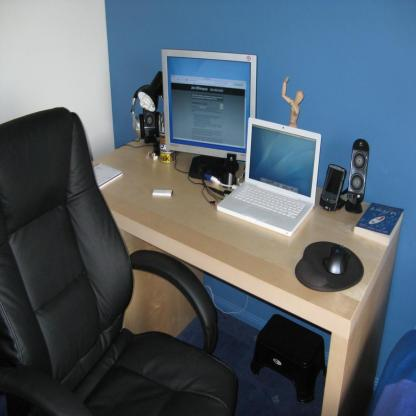board: (216, 116, 322, 236)
